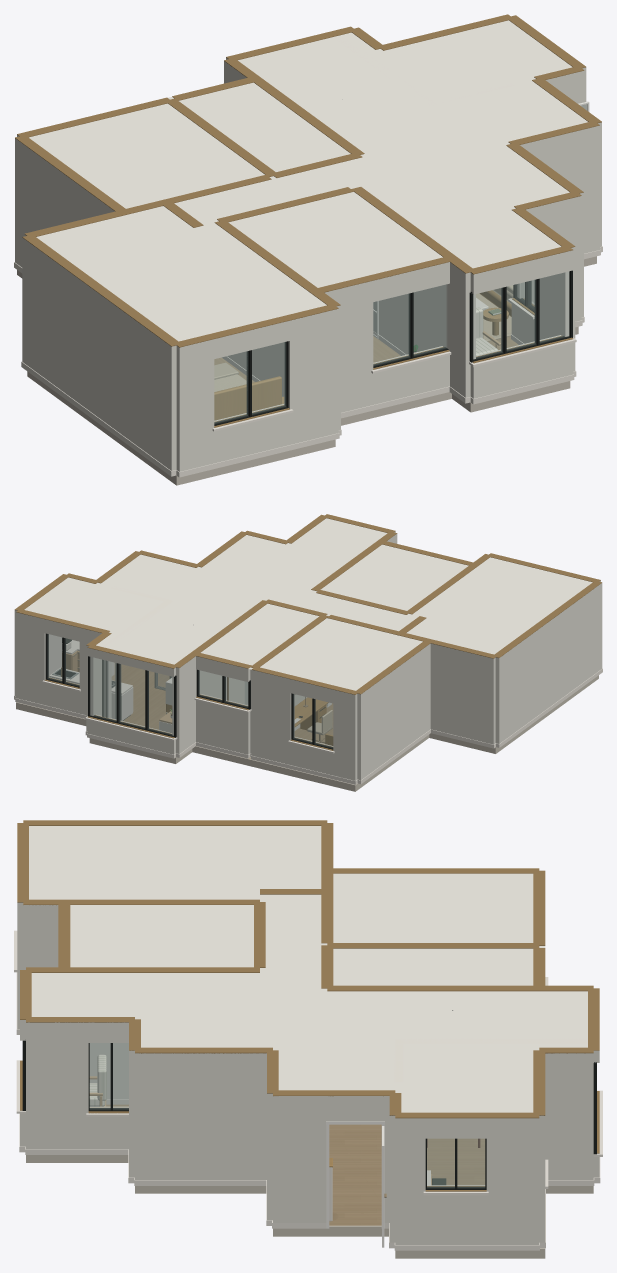
3 renders of one model, top to bottom at view 1: azimuth 30°, elevation 25°; view 2: azimuth 150°, elevation 25°; view 3: azimuth 270°, elevation 25°, orthographic. The views are drawn at different scales.
Parts seen in each view (by area): view 1: ceilings, wall (×16), locked-architecture, sunlit-spatial-20261102, bearing-wall-lower, spatial-furniture, solid-tv-backdrop, kitchen-exterior-return; view 2: ceilings, wall (×18), locked-architecture, sunlit-spatial-20261102, integrated-open-kitchen, secondary-bedroom-study, kitchen-west-leaf-1, kitchen-enclosure-5west-4south-left, coffee-sideboard; view 3: ceilings, wall (×17), locked-architecture, sunlit-spatial-20261102, kitchen-enclosure-5west-4south-left, solid-tv-backdrop, kitchen-exterior-return, reading-chair, bearing-wall-lower, spatial-furniture.
Boxes of the visible parts, left/top/right/bottom form: ceilings: left=29, top=20, right=587, bottom=341; wall (×16): left=15, top=125, right=599, bottom=471; locked-architecture: left=14, top=14, right=602, bottom=477; sunlit-spatial-20261102: left=17, top=256, right=596, bottom=485; bearing-wall-lower: left=424, top=262, right=475, bottom=397; spatial-furniture: left=214, top=101, right=589, bottom=420; solid-tv-backdrop: left=385, top=290, right=424, bottom=354; kitchen-exterior-return: left=545, top=71, right=584, bottom=103; ceilings: left=24, top=518, right=592, bottom=690; wall (×18): left=16, top=583, right=602, bottom=780; locked-architecture: left=14, top=514, right=602, bottom=784; sunlit-spatial-20261102: left=16, top=663, right=598, bottom=791; integrated-open-kitchen: left=48, top=634, right=133, bottom=720; secondary-bedroom-study: left=294, top=694, right=333, bottom=745; kitchen-west-leaf-1: left=107, top=661, right=121, bottom=720; kitchen-enclosure-5west-4south-left: left=102, top=586, right=172, bottom=646; coffee-sideboard: left=159, top=678, right=172, bottom=732; ceilings: left=29, top=826, right=587, bottom=1112; wall (×17): left=17, top=902, right=593, bottom=1244; locked-architecture: left=14, top=820, right=602, bottom=1250; sunlit-spatial-20261102: left=26, top=1104, right=593, bottom=1258; kitchen-enclosure-5west-4south-left: left=394, top=1038, right=587, bottom=1082; solid-tv-backdrop: left=110, top=1043, right=128, bottom=1099; kitchen-exterior-return: left=389, top=1115, right=395, bottom=1242; reading-chair: left=89, top=1054, right=106, bottom=1106; bearing-wall-lower: left=89, top=1043, right=110, bottom=1099; spatial-furniture: left=329, top=1126, right=386, bottom=1247.
Size of the model in its own units: 13.09 by 2.93 by 10.9.
70 materials, 14 textured.
